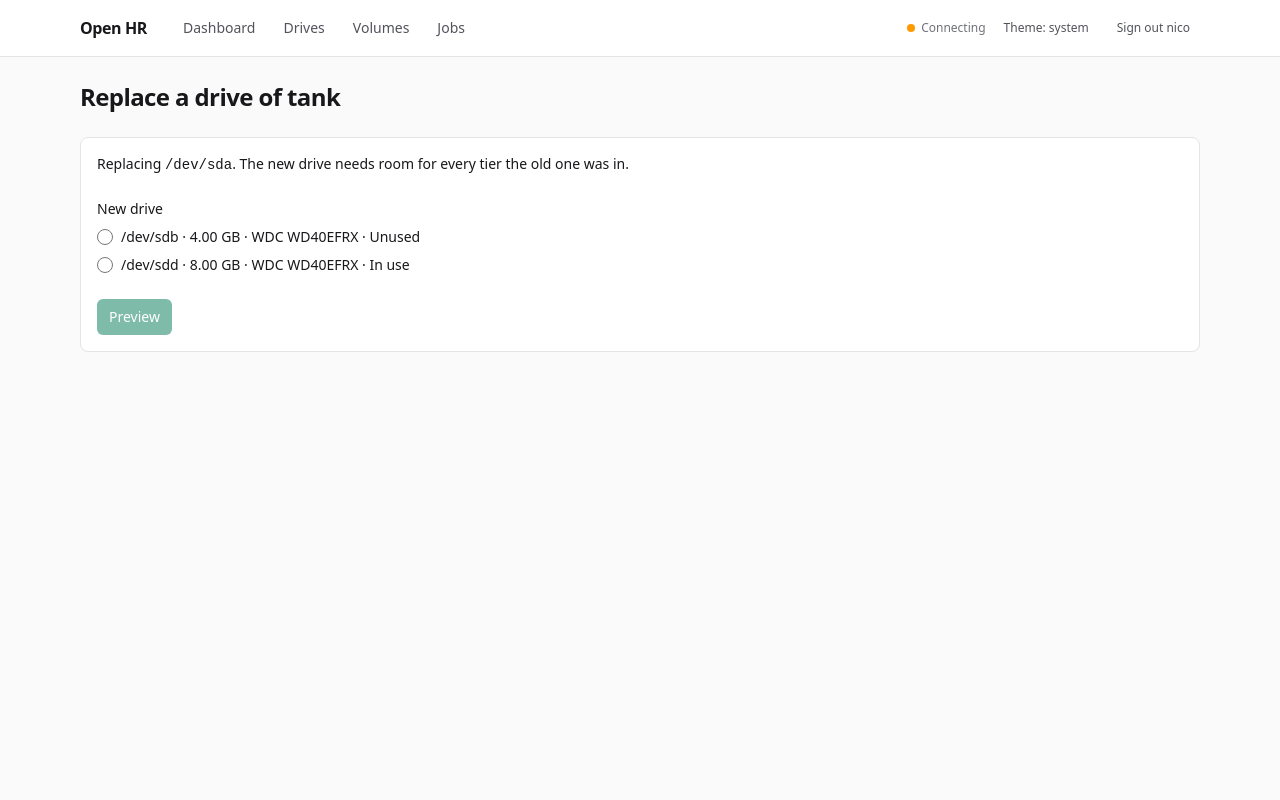
Test case: replace drive › previews how each tier moves, then replaces the drive once the pool name is typed
Click the radio button labelled "/dev/sdb · 4.00 GB · WDC WD40EFRX · Unused": (105, 237) [97,229,113,245]
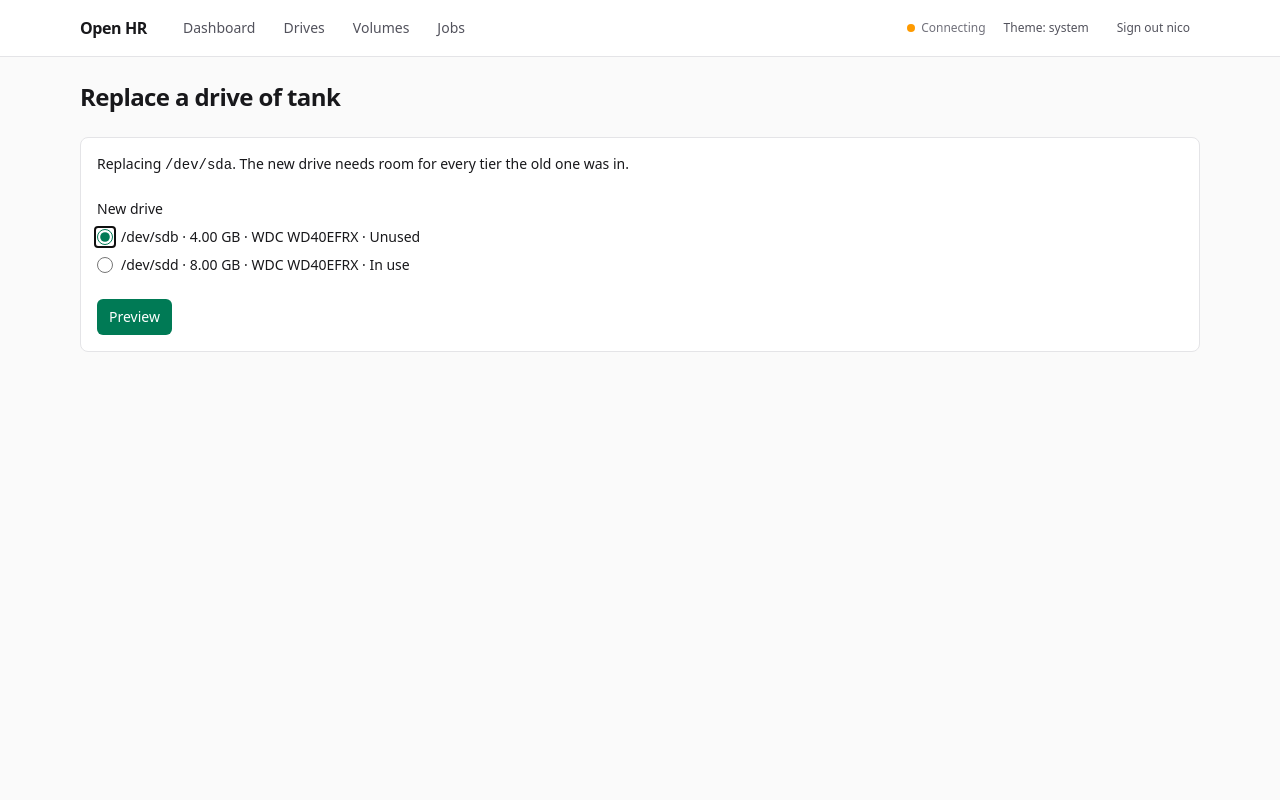
Click the button "Preview": (134, 317) [97,299,172,335]
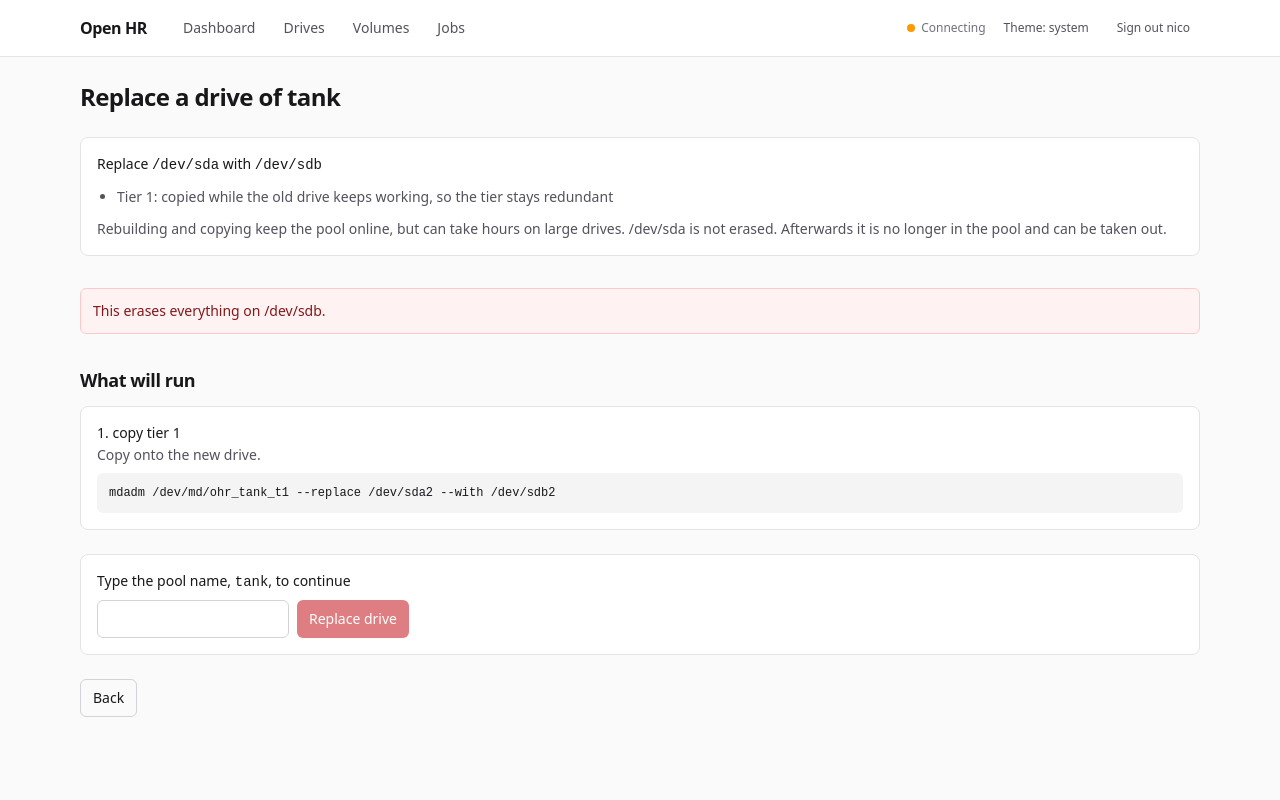
Now the list item "Tier 1: copied while the old drive keeps working" is shown, box [117,187,613,206]
Now the text "/dev/sda is not erased" is shown, box [625,219,1167,238]
Now the text "This erases everything on /dev/sdb." is shown, box [80,288,1200,334]
In the field labelled "Type the pool name, tank, to continue": (193, 619) [97,600,289,638], type "tank"
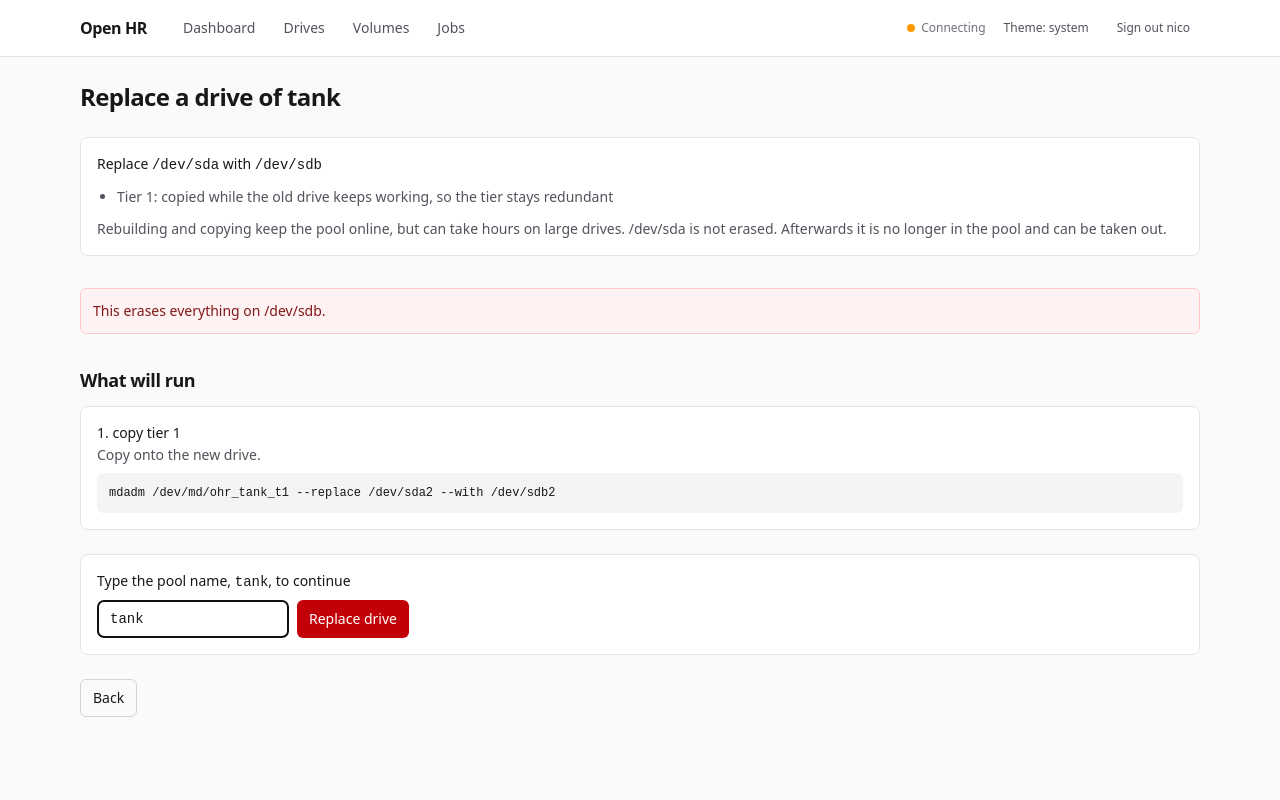
Click the button "Replace drive": (353, 619) [297,600,409,638]
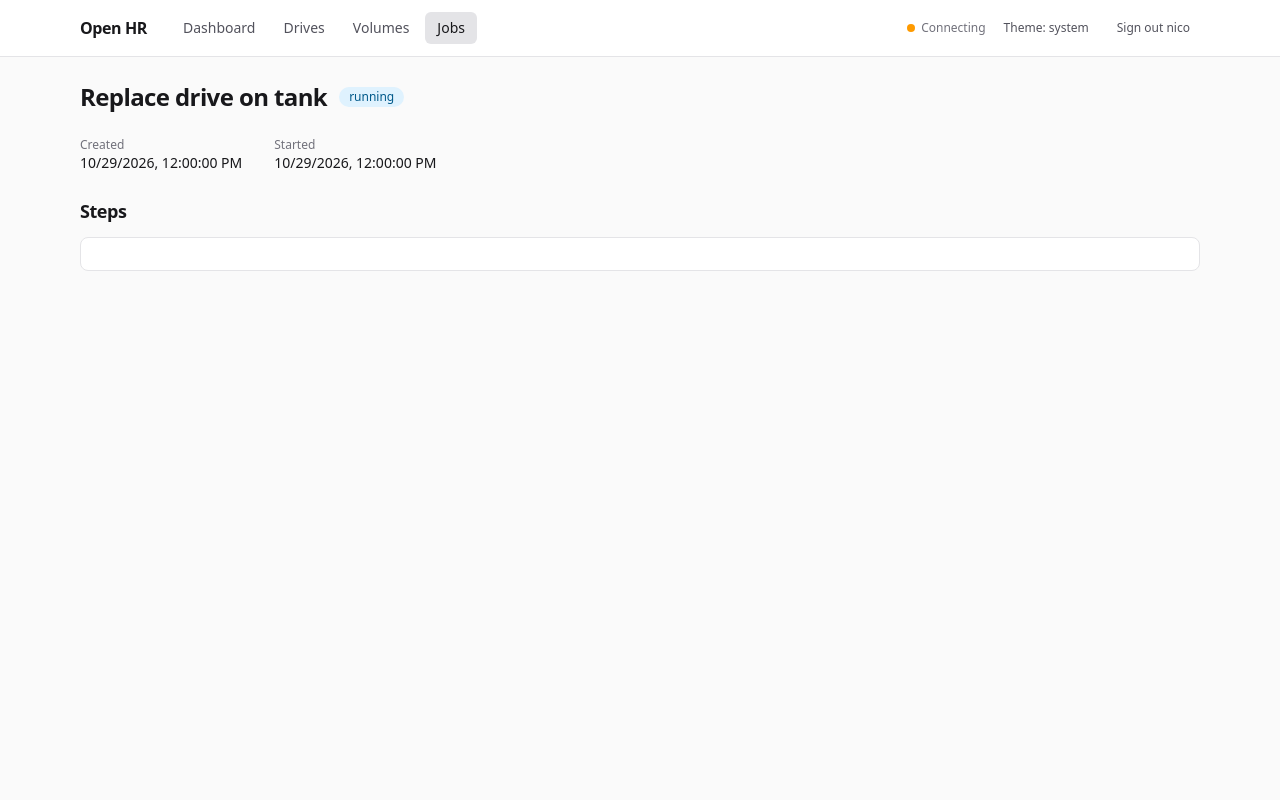
Now the heading "Replace drive on tank" is shown, box [80,81,327,113]
